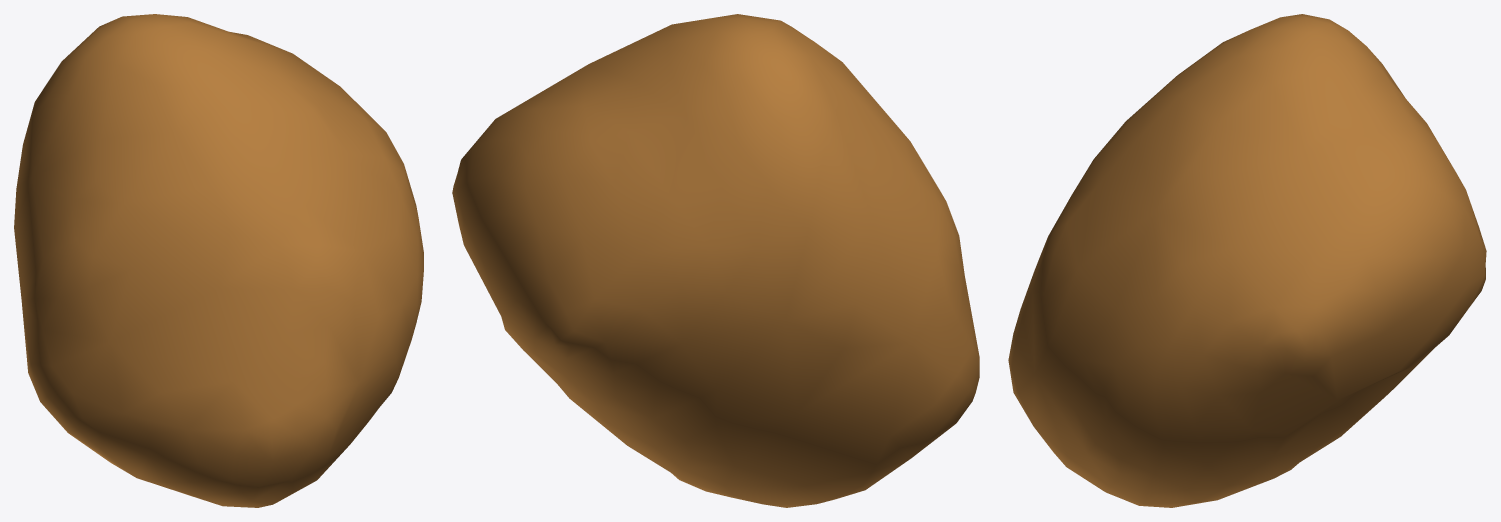
Rendered from liver_tumor.glb.
3 views of the same model, side by side, from view 1: azimuth 30°, elevation 25°; view 2: azimuth 150°, elevation 25°; view 3: azimuth 270°, elevation 25° (orthographic). The views are drawn at different scales.
Visible parts, largest first — view 1: Default; view 2: Default; view 3: Default.
Part boxes in pixels (left/top/right/bottom): Default: left=14, top=14, right=423, bottom=507; Default: left=452, top=14, right=979, bottom=507; Default: left=1008, top=14, right=1486, bottom=507.
Bounding box in the file's own units: 0.9314 × 1 × 0.9455.
